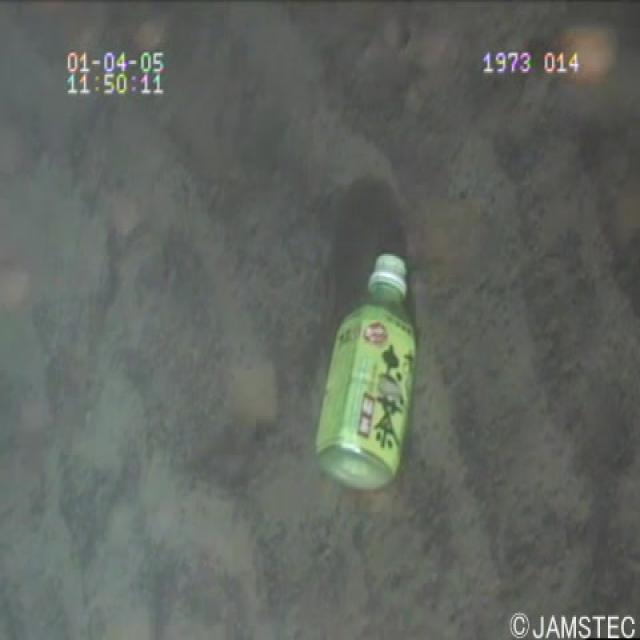plastic: (300, 245, 452, 507)
